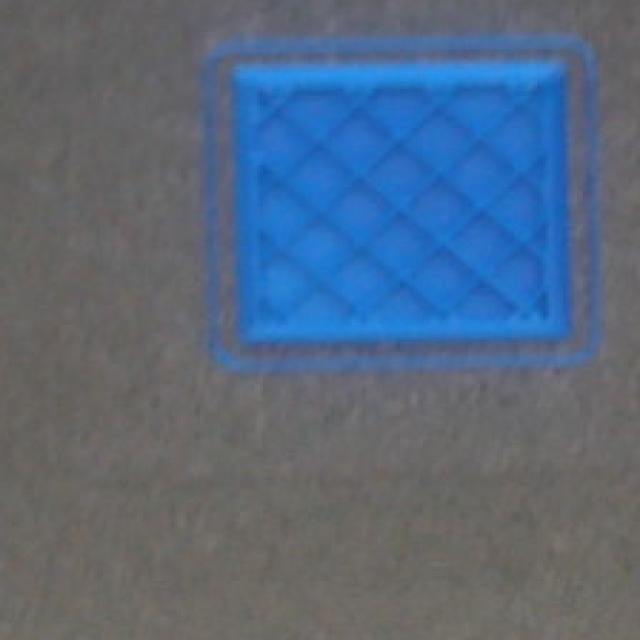noMistake: (209, 34, 597, 364)
